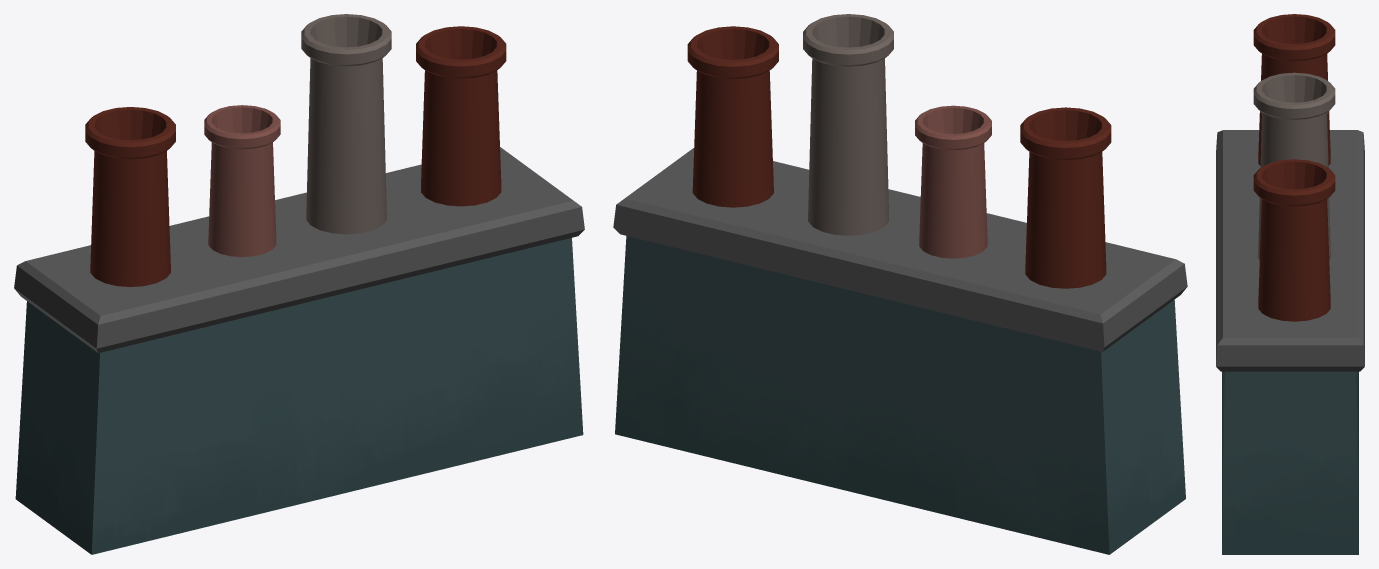
File: m_cheminee_longue.FBX
The picture shows the model from 3 angles, left to right: view 1: azimuth 30°, elevation 25°; view 2: azimuth 150°, elevation 25°; view 3: azimuth 270°, elevation 25°; orthographic projection. The views are drawn at different scales.
Visible parts, largest first — view 1: cheminee_longue; view 2: cheminee_longue; view 3: cheminee_longue.
Part boxes in pixels (x1=…): cheminee_longue: x1=14, y1=14, x2=584, y2=554; cheminee_longue: x1=613, y1=14, x2=1187, y2=554; cheminee_longue: x1=1216, y1=14, x2=1364, y2=554.
Bounding box in the file's own units: 71.86 × 58.87 × 20.93.
